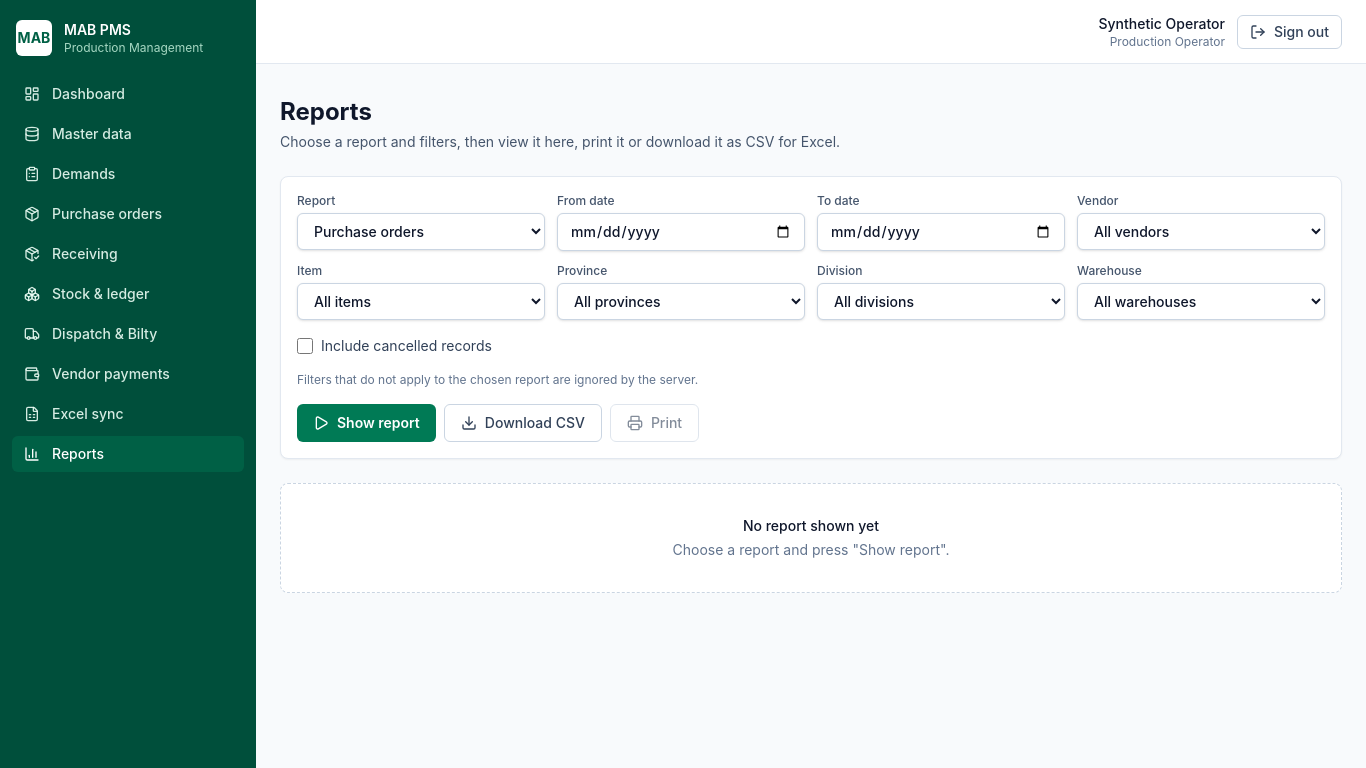
Test: Reports › warns when the report was truncated
Select "Stock on hand" in the dropdown labelled "Report" at (421, 232), box x1=297 y1=213 x2=545 y2=250
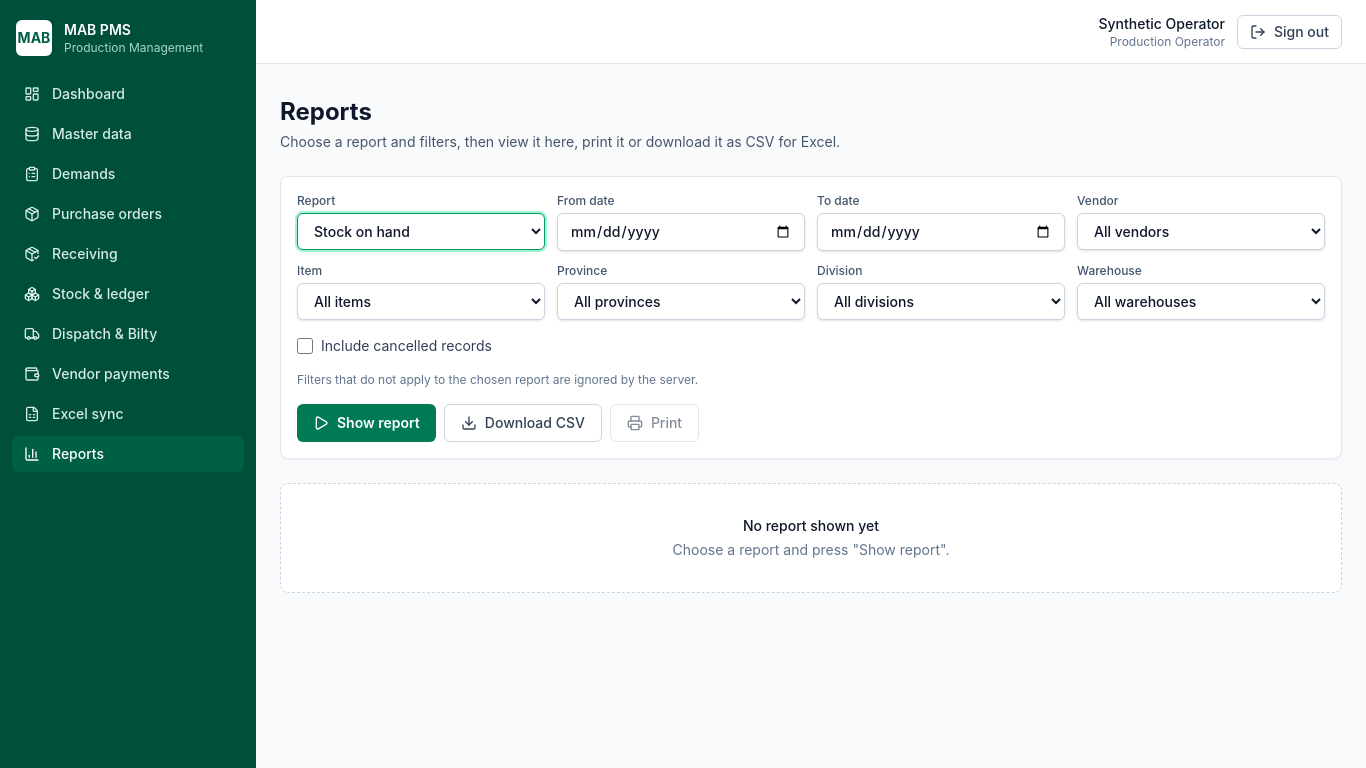
Click the button "Show report" at (366, 423), box x1=297 y1=404 x2=436 y2=442
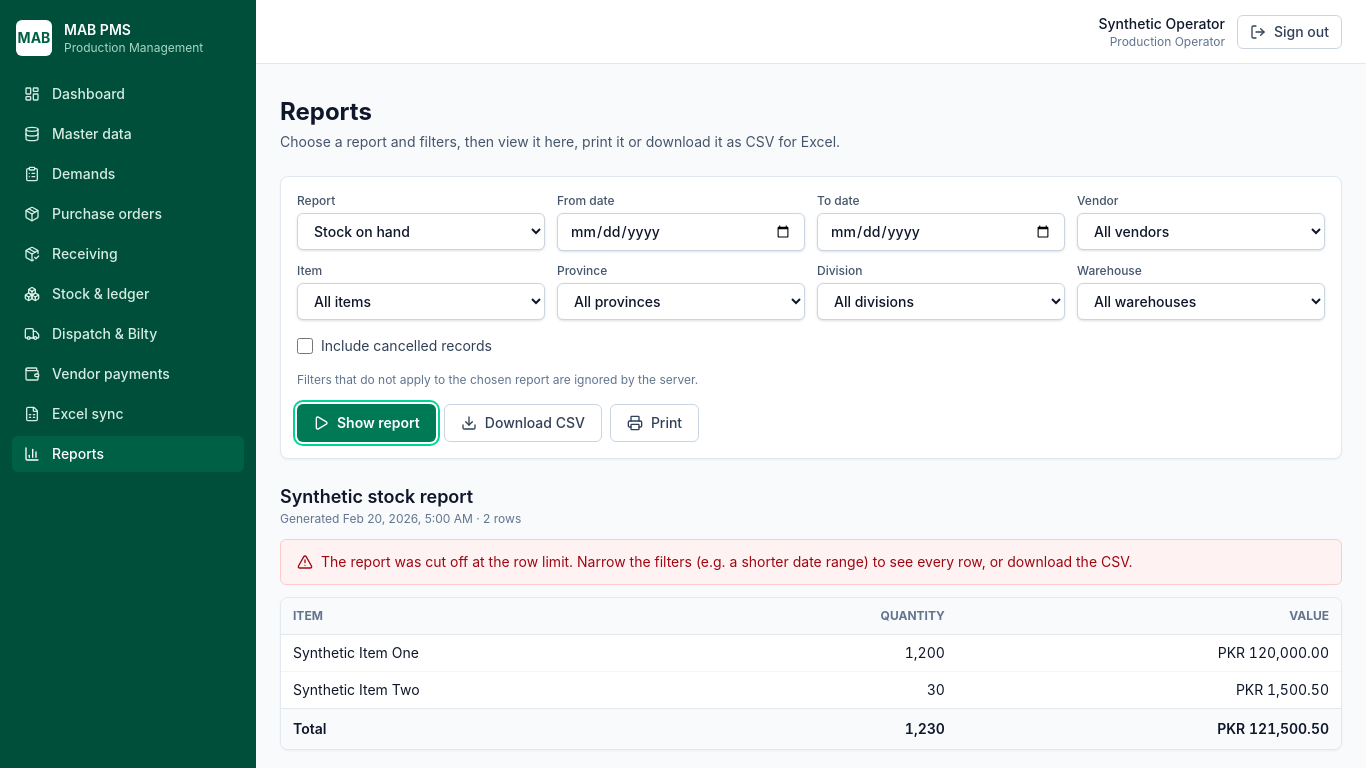
Now the text "cut off at the row limit" is shown, box x1=321 y1=553 x2=1133 y2=570
